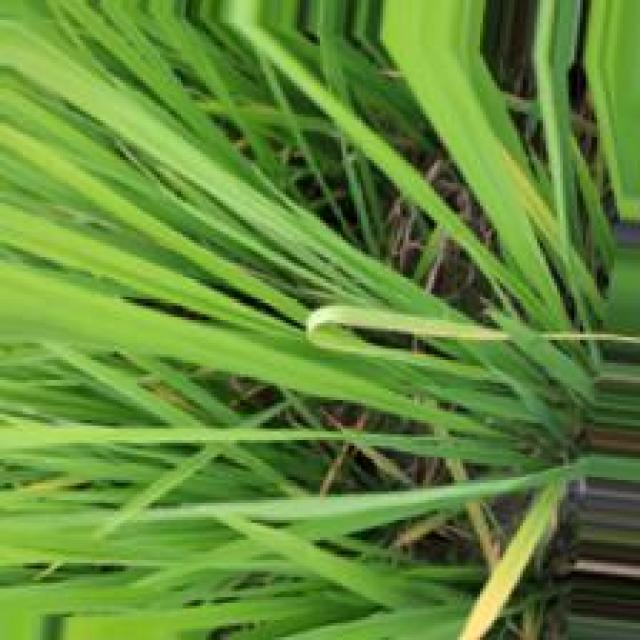HealthyLeaf: (426, 96, 527, 228), (223, 335, 368, 402)
